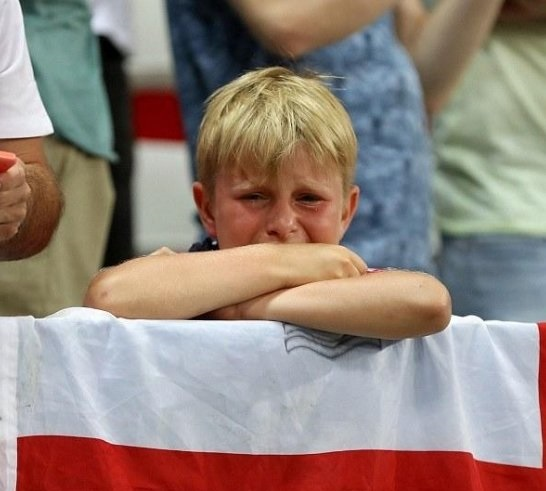face: (211, 134, 343, 290)
